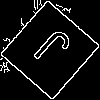J: (25, 25, 74, 77)
